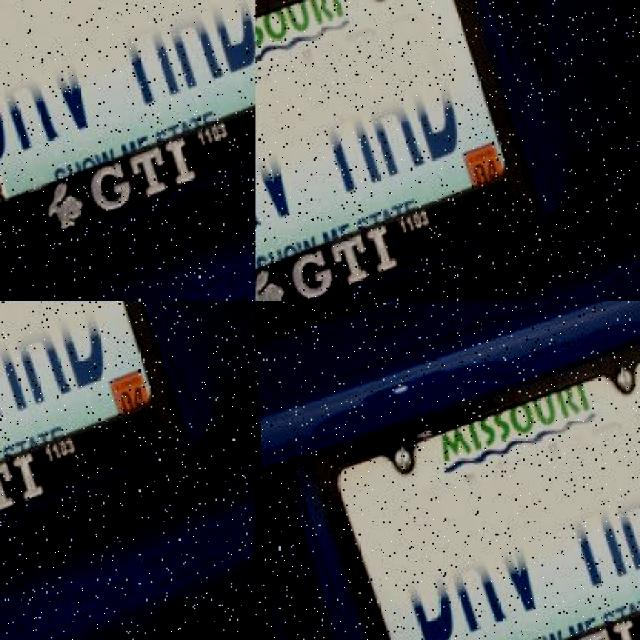licenseplate: (340, 375, 640, 640), (0, 0, 97, 92), (255, 26, 314, 137), (0, 299, 58, 352)
